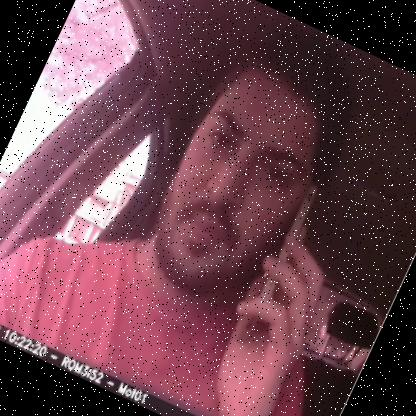phone: (220, 170, 349, 366)
